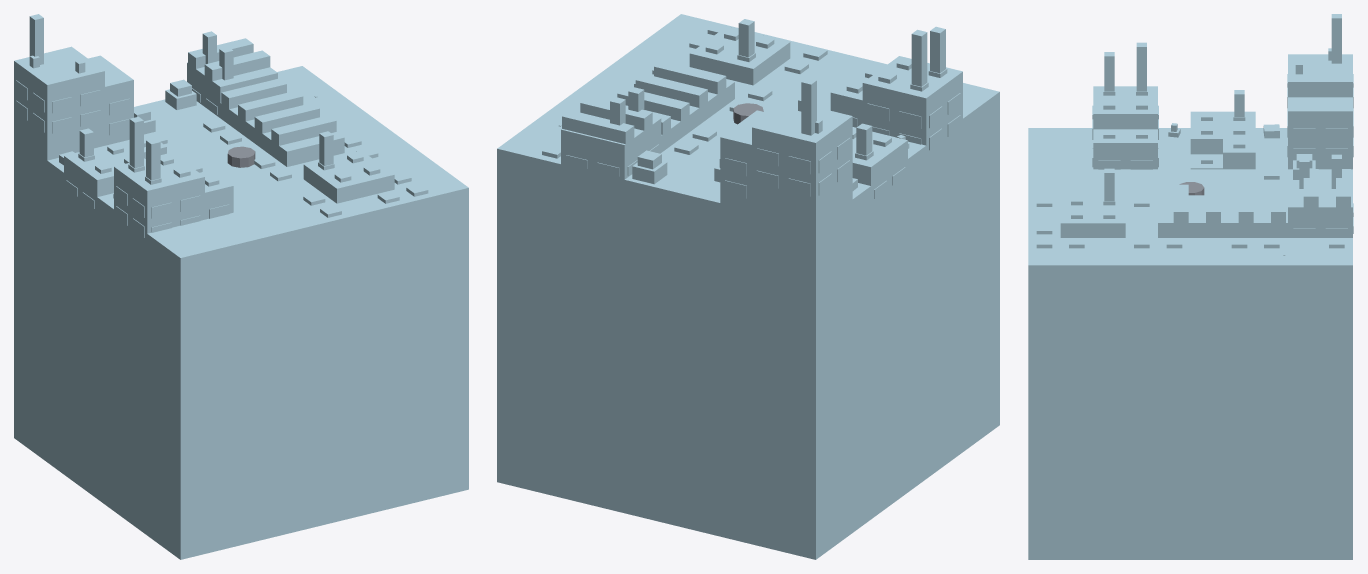
Rendered from block_9_undergroundtanks_100.glb.
3 views of the same model, side by side, from view 1: azimuth 30°, elevation 25°; view 2: azimuth 150°, elevation 25°; view 3: azimuth 270°, elevation 25° (orthographic). The views are drawn at different scales.
Visible parts, largest first — view 1: Patch_LowerLeft_b09_UT, Factories_LowerLeft_b09_UT, Asset_Tree_Round.001_UT, Parking_LowerLeft_b09_UT, Ground_LowerLeft_b09_UT; view 2: Patch_LowerLeft_b09_UT, Factories_LowerLeft_b09_UT, Asset_Tree_Round.001_UT, Ground_LowerLeft_b09_UT; view 3: Patch_LowerLeft_b09_UT, Factories_LowerLeft_b09_UT, Roads_LowerLeft_b09_UT.
Part boxes in pixels (<box>): Patch_LowerLeft_b09_UT: <box>14,66,468,559</box>; Factories_LowerLeft_b09_UT: <box>14,14,394,268</box>; Asset_Tree_Round.001_UT: <box>165,79,196,109</box>; Parking_LowerLeft_b09_UT: <box>147,257,295,289</box>; Ground_LowerLeft_b09_UT: <box>47,188,439,254</box>; Patch_LowerLeft_b09_UT: <box>497,14,999,559</box>; Factories_LowerLeft_b09_UT: <box>561,19,962,231</box>; Asset_Tree_Round.001_UT: <box>632,150,667,184</box>; Ground_LowerLeft_b09_UT: <box>529,176,926,234</box>; Patch_LowerLeft_b09_UT: <box>1028,128,1352,559</box>; Factories_LowerLeft_b09_UT: <box>1060,14,1353,237</box>; Roads_LowerLeft_b09_UT: <box>1028,292,1352,296</box>.
Bounding box in the file's own units: 9.52 × 13.33 × 9.52.
